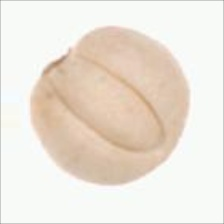L5: (50, 53, 168, 155), (143, 122, 188, 175), (39, 45, 77, 78)
L6: (27, 24, 193, 190)
